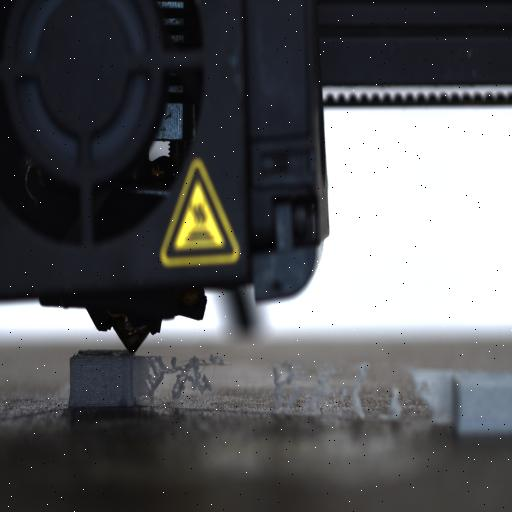stringing: (140, 352, 228, 403), (270, 358, 346, 411)
